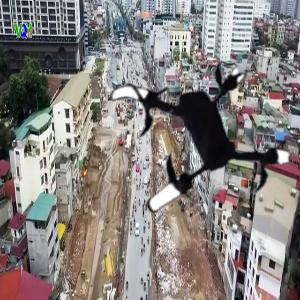drone: (95, 45, 290, 240)
